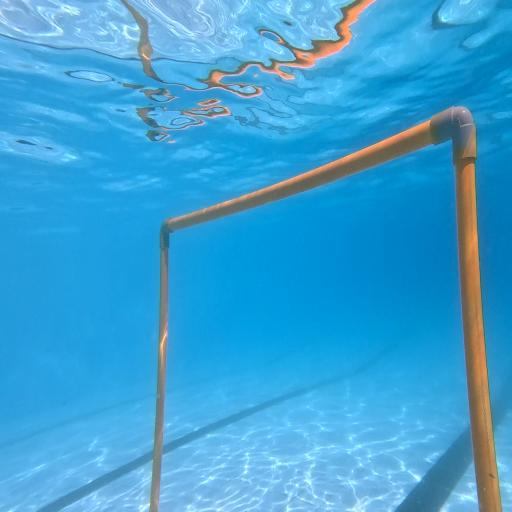gate: (150, 106, 502, 512)
